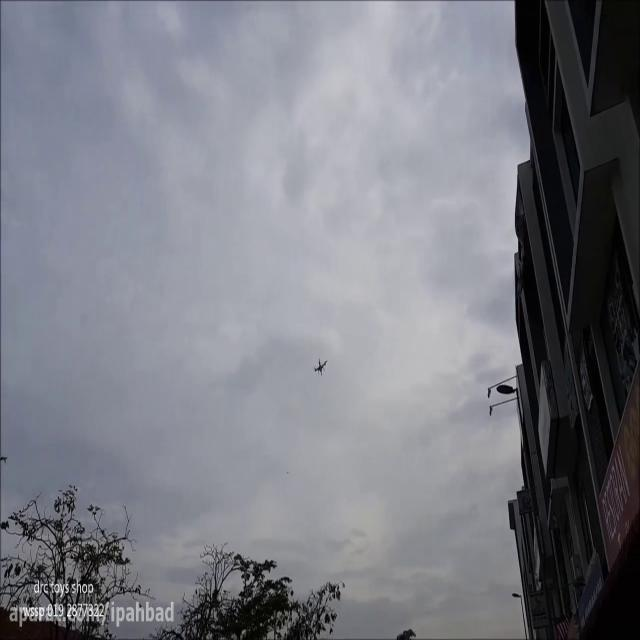drone: (312, 356, 330, 378)
